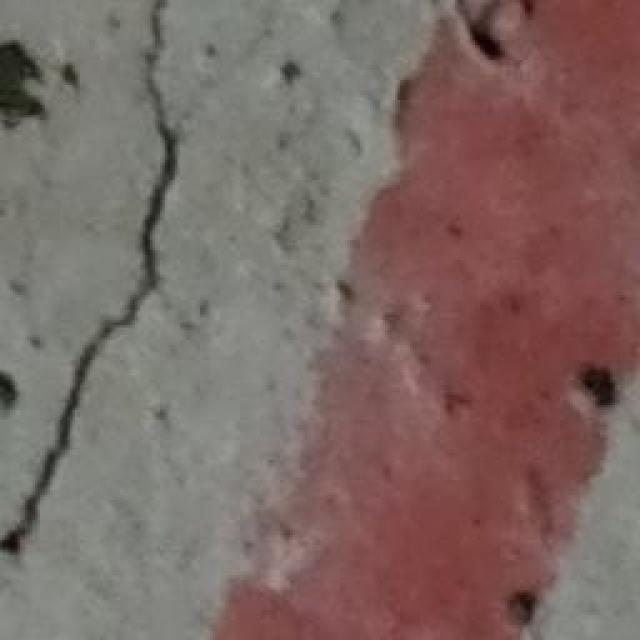Radial: (0, 0, 274, 554)
